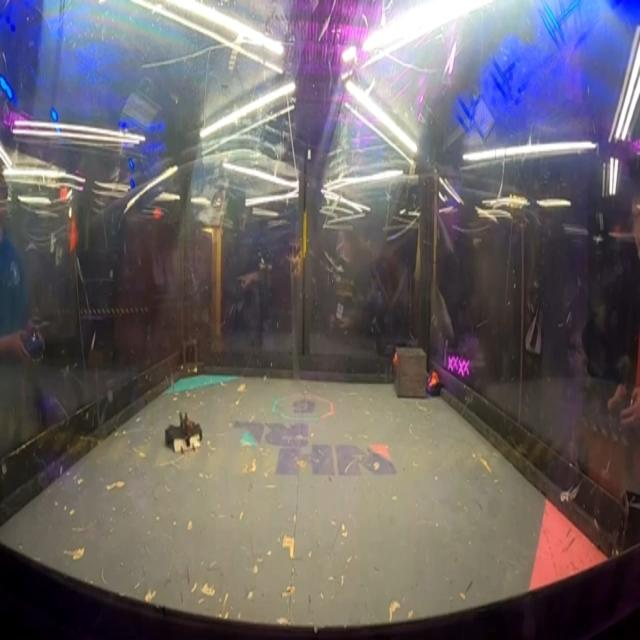brick: (391, 339, 428, 408)
